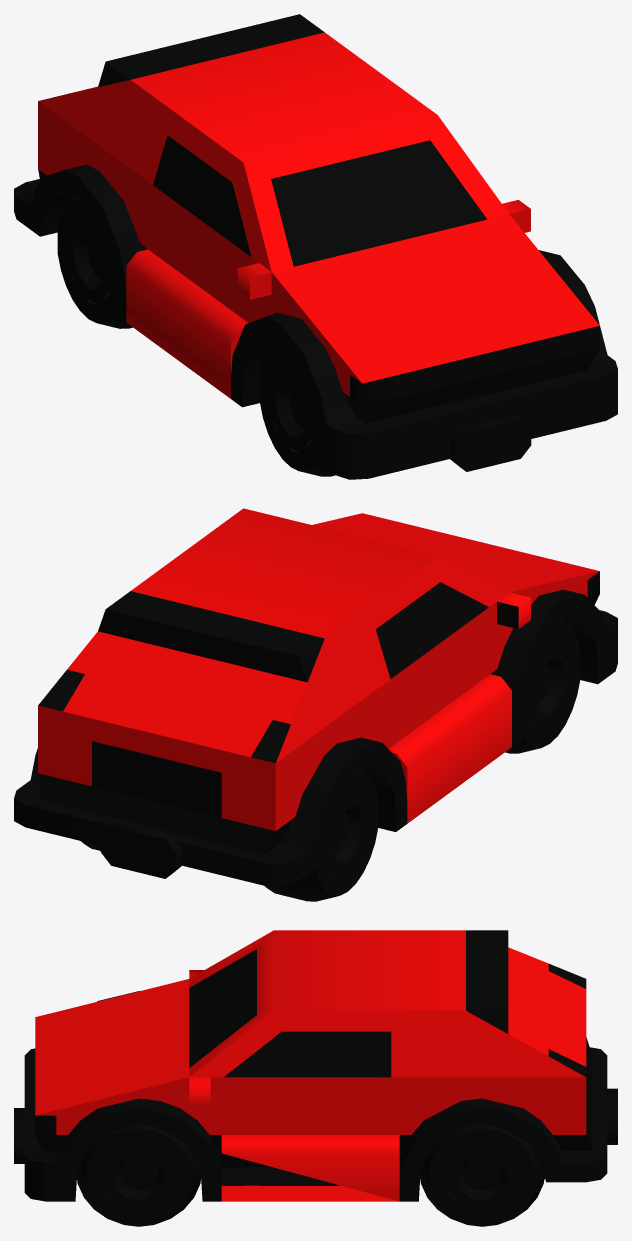
Rendered from hatchback-sports.glb.
The picture shows the model from 3 angles, top to bottom: view 1: azimuth 30°, elevation 25°; view 2: azimuth 150°, elevation 25°; view 3: azimuth 270°, elevation 25°; orthographic projection. The views are drawn at different scales.
Visible parts, largest first — view 1: body, wheel-back-right, wheel-front-right; view 2: body, wheel-back-right, wheel-front-right; view 3: body, wheel-back-left, wheel-front-left.
Boxes of the visible parts, x1=… form: body: x1=14, y1=14, x2=617, y2=479; wheel-back-right: x1=57, y1=196, x2=132, y2=328; wheel-front-right: x1=259, y1=344, x2=335, y2=476; body: x1=14, y1=508, x2=617, y2=886; wheel-back-right: x1=264, y1=768, x2=378, y2=901; wheel-front-right: x1=505, y1=620, x2=580, y2=753; body: x1=14, y1=930, x2=617, y2=1201; wheel-back-left: x1=420, y1=1124, x2=544, y2=1226; wheel-front-left: x1=77, y1=1124, x2=200, y2=1226.
Bounding box in the file's own units: 1.3 × 1.1 × 2.85.
Materials: 1 (1 with a texture image).
